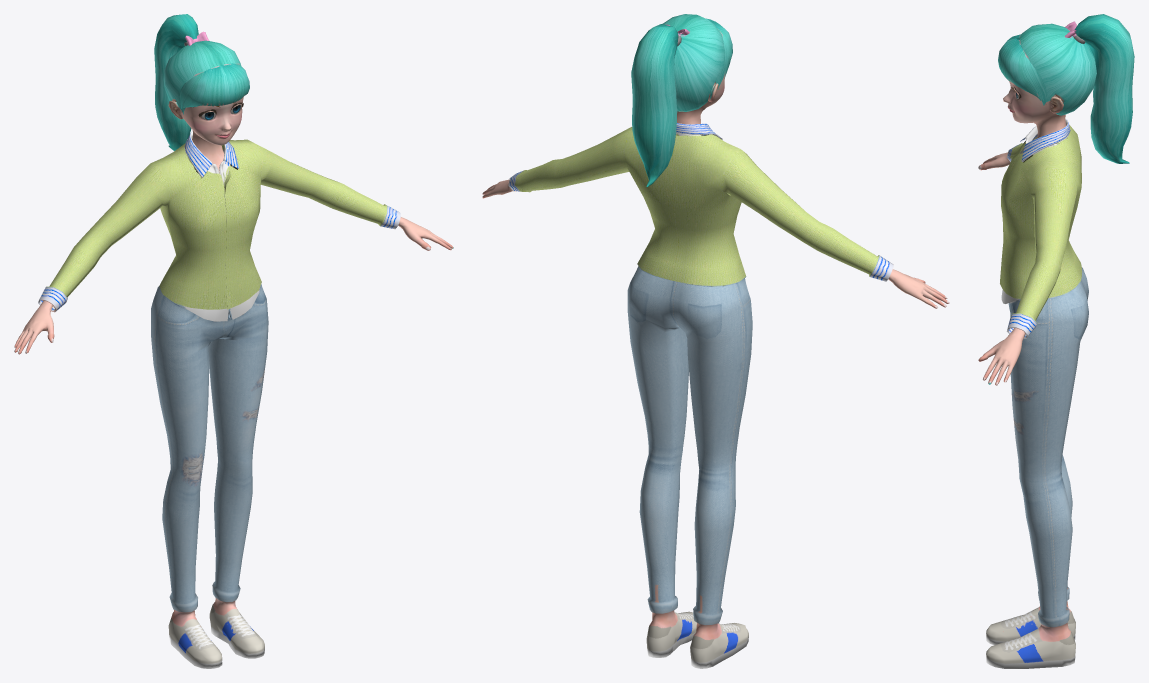
Rendered from Cindy_Low.fbx.
3 renders of one model, left to right at view 1: azimuth 30°, elevation 25°; view 2: azimuth 150°, elevation 25°; view 3: azimuth 270°, elevation 25°, orthographic. The views are drawn at different scales.
Parts seen in each view (by area): view 1: Cindy_Low, Mesh (2); view 2: Cindy_Low, Mesh (2); view 3: Cindy_Low, Mesh (2).
Boxes of the visible parts, x1=… form: Cindy_Low: x1=14, y1=14, x2=453, y2=668; Mesh (2): x1=163, y1=31, x2=243, y2=172; Cindy_Low: x1=482, y1=18, x2=949, y2=668; Mesh (2): x1=662, y1=14, x2=726, y2=124; Cindy_Low: x1=978, y1=14, x2=1134, y2=668; Mesh (2): x1=1003, y1=21, x2=1096, y2=138.
Bounding box in the file's own units: 11.89 × 15.87 × 3.53.
